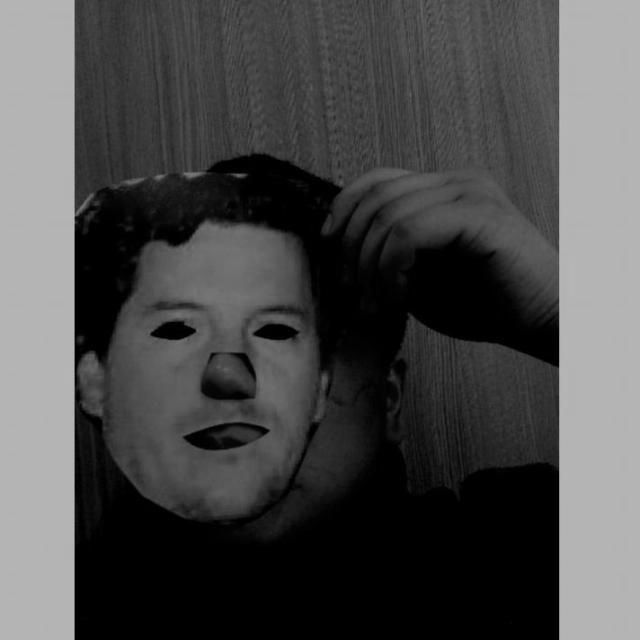fake: (75, 166, 366, 526)
